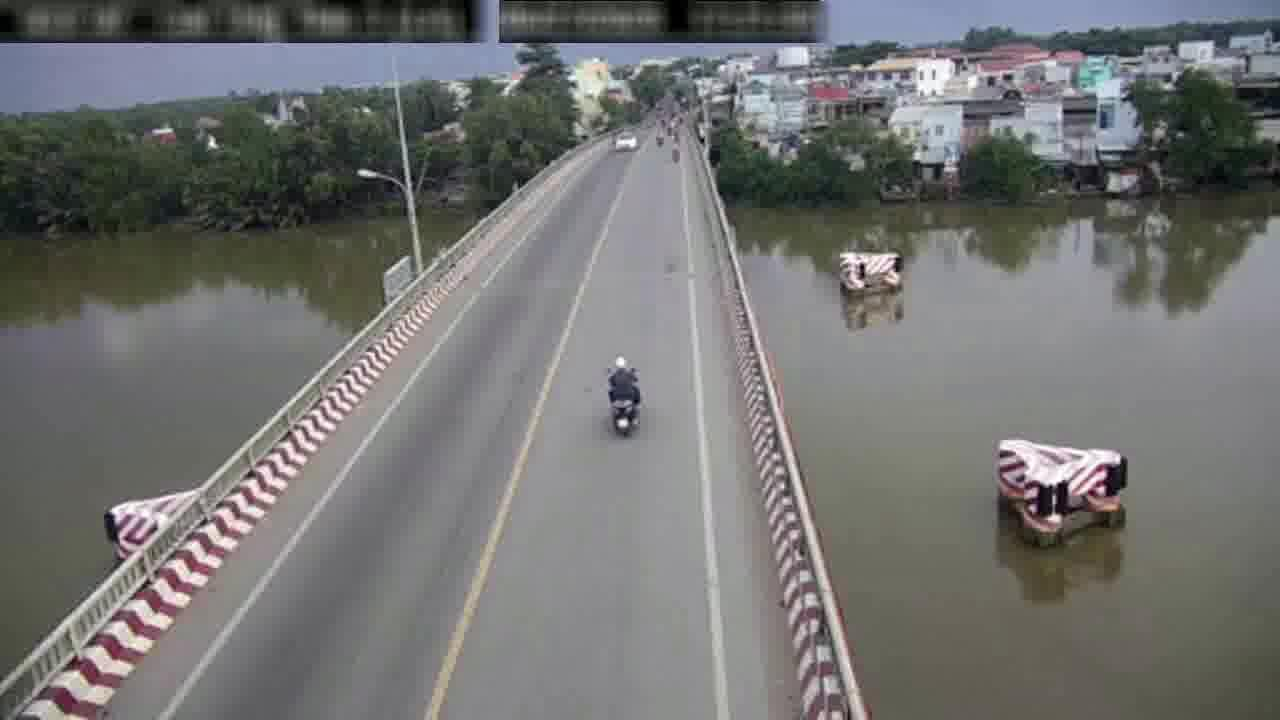container: (613, 126, 638, 151)
motorbike: (605, 355, 642, 445)
